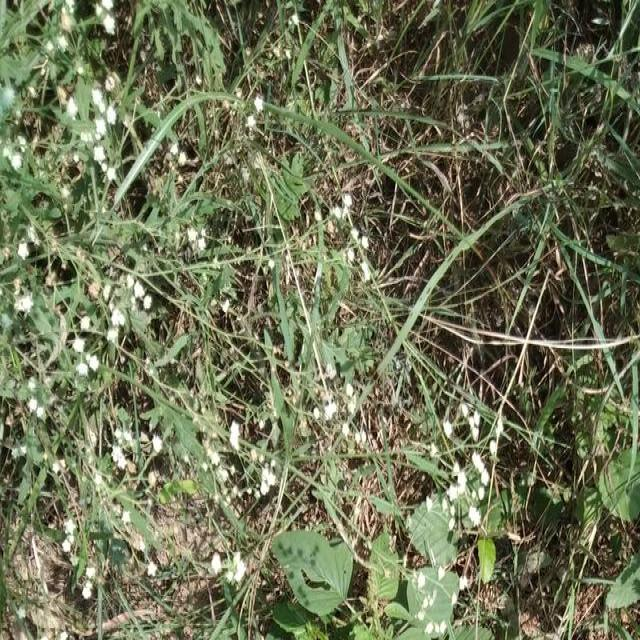weed: (21, 9, 158, 559), (253, 547, 483, 627), (439, 416, 494, 530), (322, 188, 374, 288)
